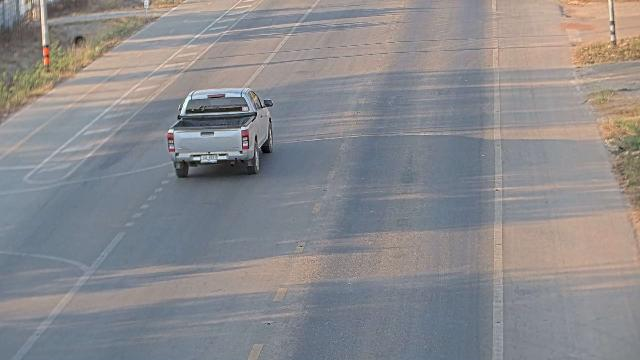pickup-truck: (166, 87, 274, 178)
